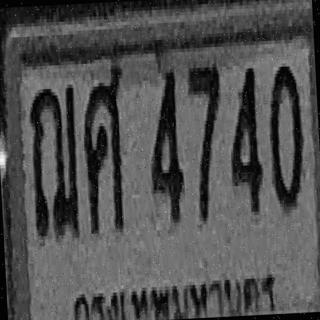A12: (28, 83, 81, 238)
A38: (80, 64, 129, 232)
N00: (267, 62, 306, 210)
N04: (147, 66, 185, 224), (226, 65, 264, 213)
N07: (187, 64, 227, 222)
